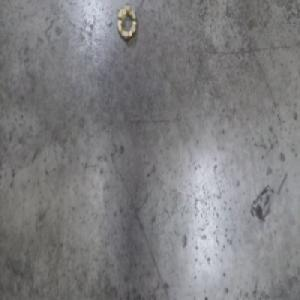Nut: (116, 4, 137, 43)
